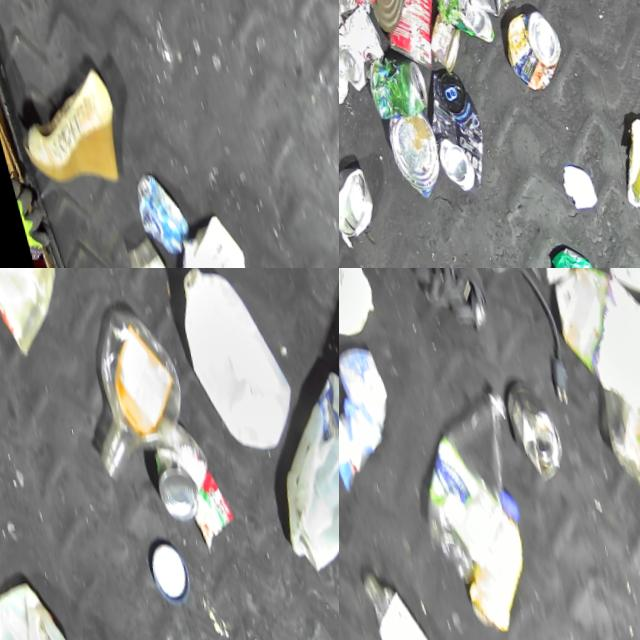can: (408, 64, 489, 192), (124, 415, 211, 524), (493, 373, 565, 484), (107, 168, 184, 268), (490, 3, 566, 91), (358, 0, 449, 70), (374, 109, 441, 199), (357, 49, 428, 121), (339, 0, 387, 91), (416, 6, 464, 71), (426, 0, 491, 46), (102, 223, 168, 268), (339, 159, 371, 238), (343, 0, 418, 30), (535, 239, 601, 268), (514, 268, 595, 287)
milk_jug: (153, 268, 297, 462), (238, 360, 339, 589), (0, 569, 74, 640), (339, 268, 382, 348)
plastic_bottle: (386, 381, 543, 584)
